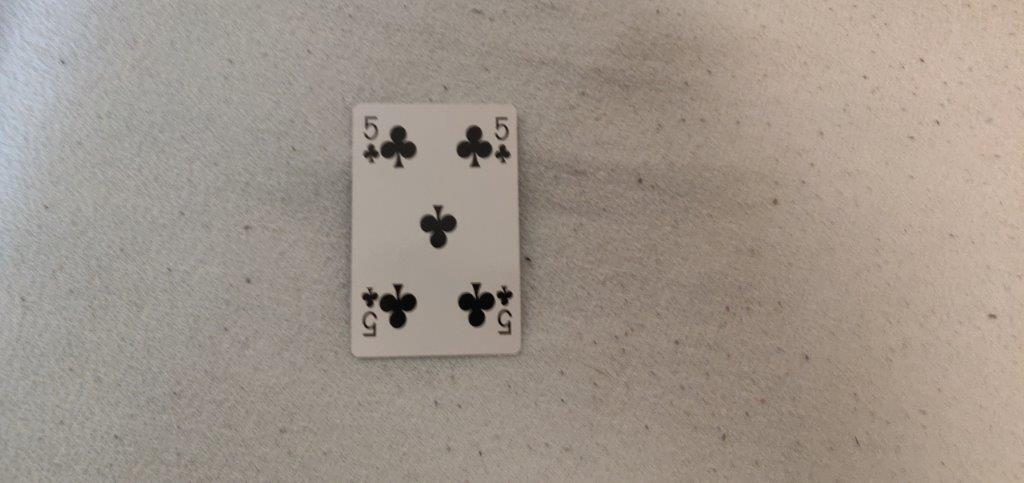5C: (492, 113, 515, 174), (359, 111, 382, 166)
